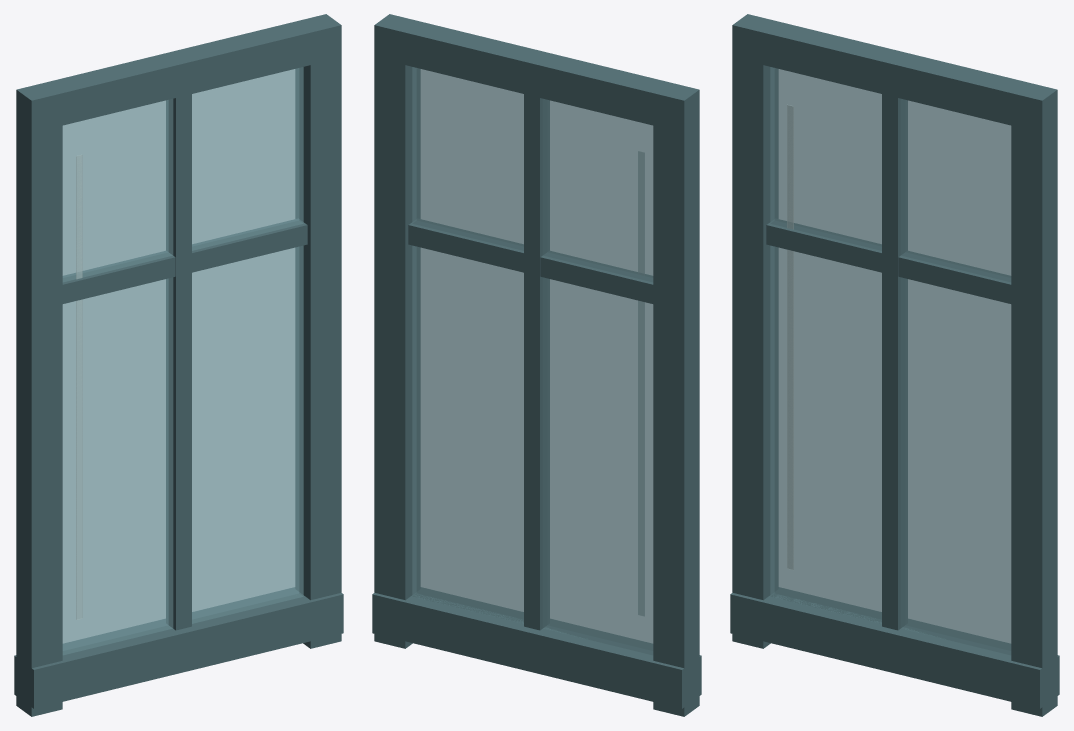
The model's file is CMU3DDirectionalReinforcedWindow.glb.
3 renders of one model, left to right at view 1: azimuth 30°, elevation 25°; view 2: azimuth 150°, elevation 25°; view 3: azimuth 330°, elevation 25°, orthographic.
Visible parts, largest first — view 1: tinted glass, left jamb, right jamb, sill, lintel, central mullion, middle transom, glass reflection edge; view 2: tinted glass, left jamb, right jamb, sill, lintel, central mullion, middle transom, glass reflection edge; view 3: tinted glass, right jamb, left jamb, sill, lintel, central mullion, middle transom, glass reflection edge.
Part boxes in pixels (x1=…): tinted glass: x1=62, y1=67, x2=303, y2=655; left jamb: x1=16, y1=82, x2=62, y2=716; right jamb: x1=295, y1=14, x2=341, y2=648; sill: x1=14, y1=587, x2=343, y2=708; lintel: x1=16, y1=14, x2=341, y2=132; central mullion: x1=166, y1=94, x2=191, y2=630; middle transom: x1=62, y1=219, x2=307, y2=303; glass reflection edge: x1=76, y1=154, x2=82, y2=619; tinted glass: x1=412, y1=67, x2=653, y2=655; left jamb: x1=653, y1=82, x2=699, y2=716; right jamb: x1=374, y1=14, x2=420, y2=648; sill: x1=372, y1=587, x2=701, y2=708; lintel: x1=374, y1=14, x2=699, y2=132; central mullion: x1=524, y1=94, x2=549, y2=630; middle transom: x1=408, y1=219, x2=653, y2=303; glass reflection edge: x1=638, y1=151, x2=644, y2=615; tinted glass: x1=770, y1=67, x2=1011, y2=655; right jamb: x1=1011, y1=82, x2=1057, y2=716; left jamb: x1=732, y1=14, x2=778, y2=648; sill: x1=730, y1=587, x2=1059, y2=708; lintel: x1=732, y1=14, x2=1057, y2=132; central mullion: x1=882, y1=94, x2=907, y2=630; middle transom: x1=766, y1=219, x2=1011, y2=303; glass reflection edge: x1=787, y1=104, x2=793, y2=570.
Bounding box in the file's own units: 1 × 1.9 × 0.11.
